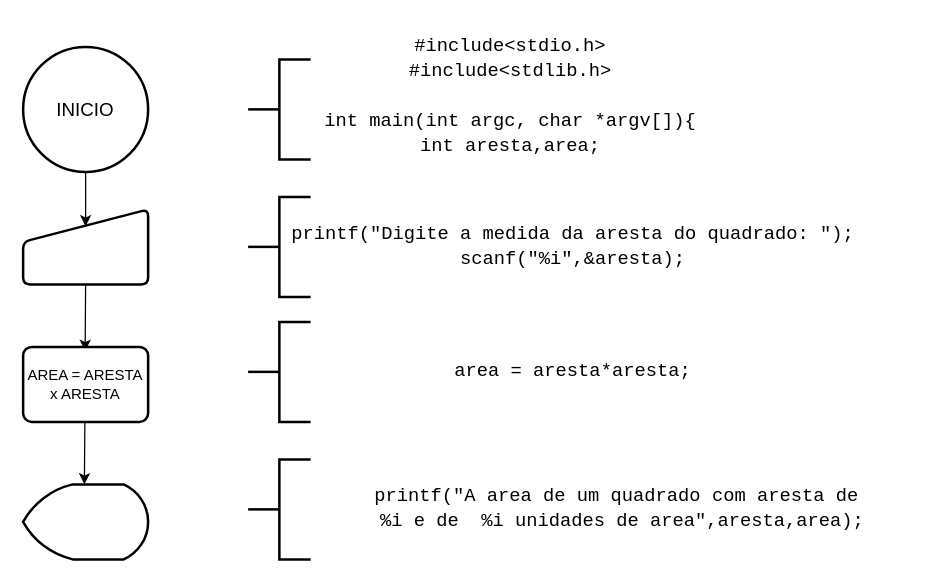
Some shapes in this 944 by 581 pixel diagram are drawn without their labels. The shapes that lost their labels are listed below. From the top down, each one's centre as x and y in pixels, then its label:
At pixel 85 246: "ARESTA".
At pixel 85 521: "AREA".
